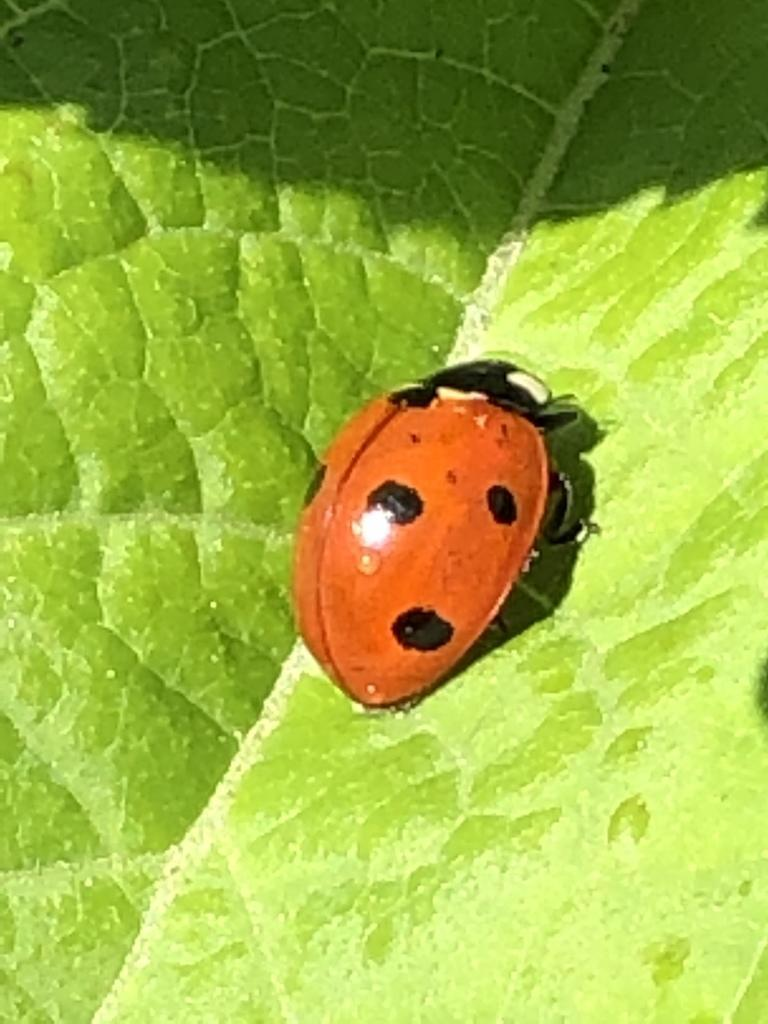ladybug: (286, 354, 596, 714)
